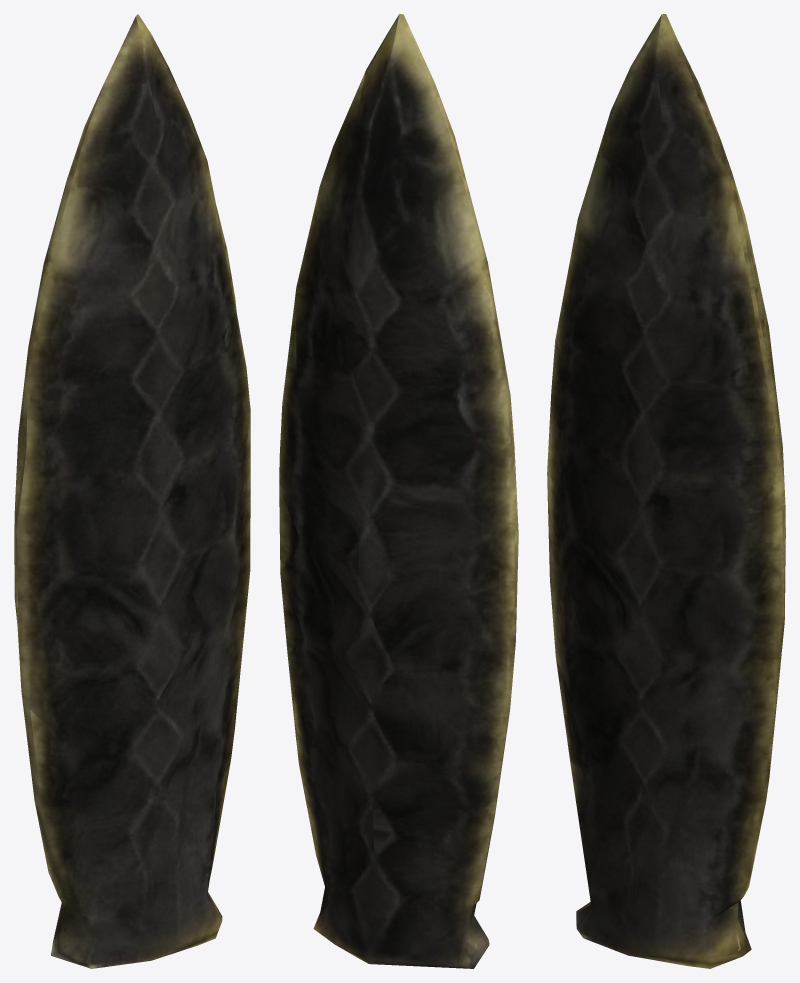
The picture shows the model from 3 angles, left to right: view 1: azimuth 30°, elevation 25°; view 2: azimuth 150°, elevation 25°; view 3: azimuth 330°, elevation 25°; orthographic projection.
Visible parts, largest first — view 1: obsidian-blade; view 2: obsidian-blade; view 3: obsidian-blade.
Boxes of the visible parts, x1,y1,x2,y2 form: obsidian-blade: (14, 14, 250, 968); obsidian-blade: (279, 14, 518, 968); obsidian-blade: (547, 14, 785, 968).
Size of the model in its own units: 0.0766 by 0.2908 by 0.0331.
1 material, 1 textured.
